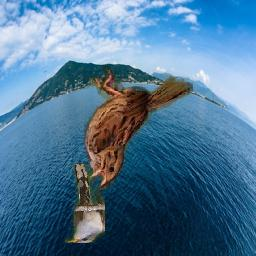Cuckoo: (65, 163, 105, 243)
Sparrow: (85, 66, 194, 191)
